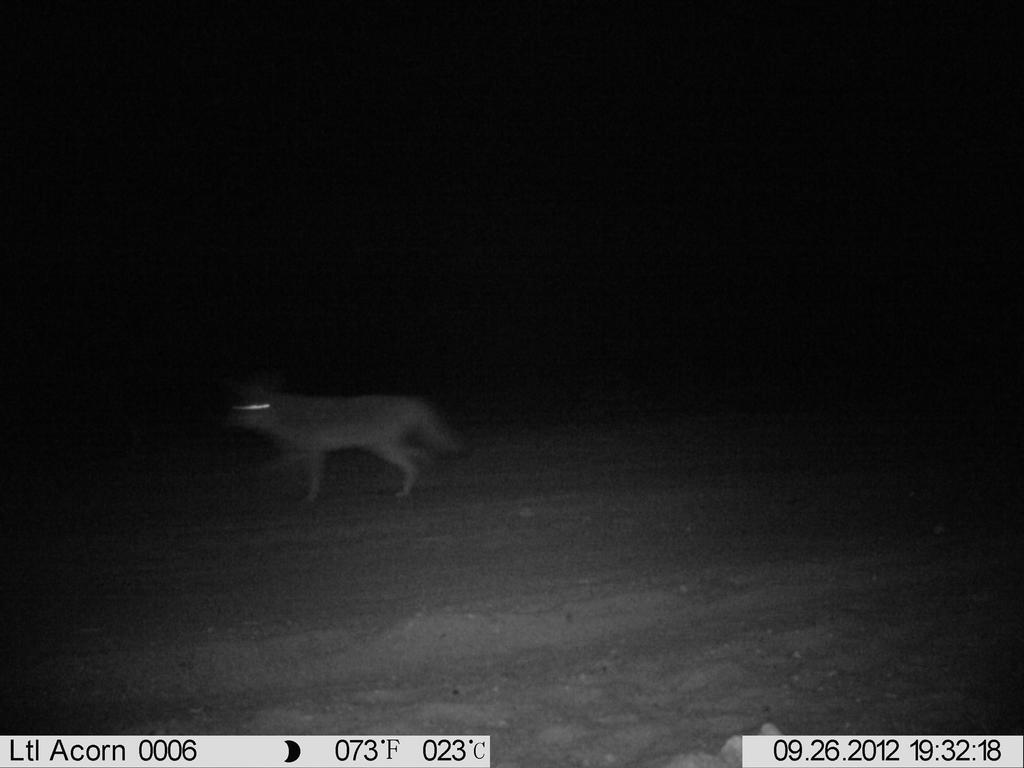coyote: (204, 363, 481, 521)
